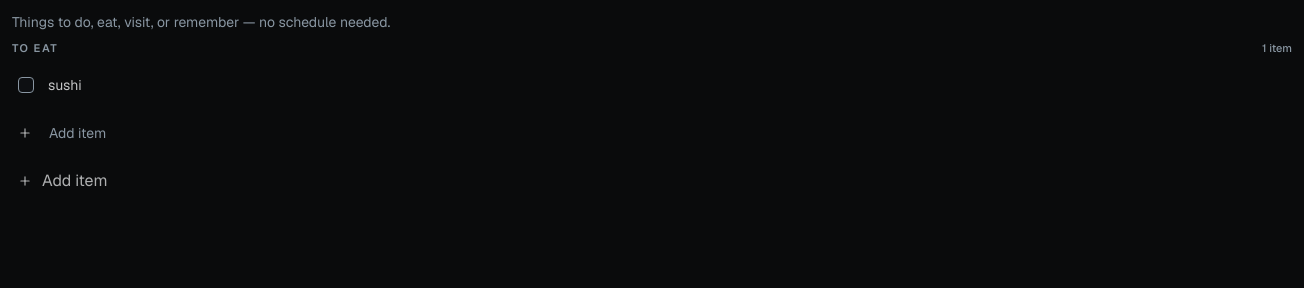
BucketListView › reuses an existing category's casing when the general composer's category is a case-insensitive match
Check: the heading "To Eat" is shown, box [12,40,58,56]
Click the button "Add item" at (63, 180), box [12,160,113,200]
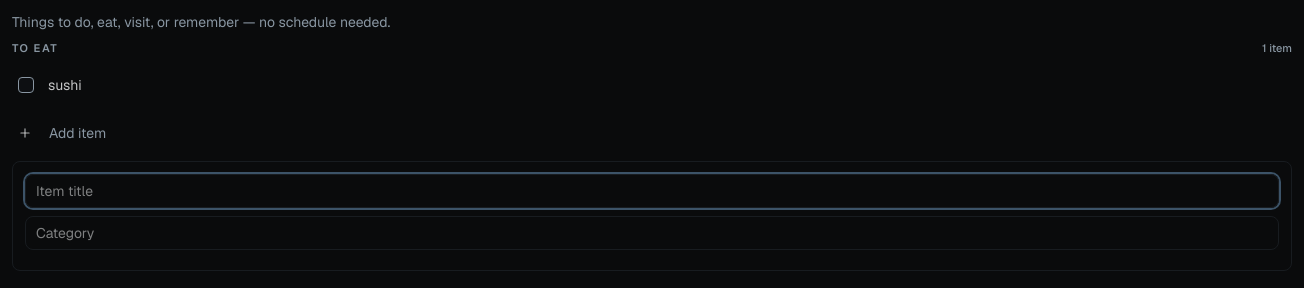
Type "ramen" into the field labelled "Item title" at (652, 190), box [25,174,1279,208]
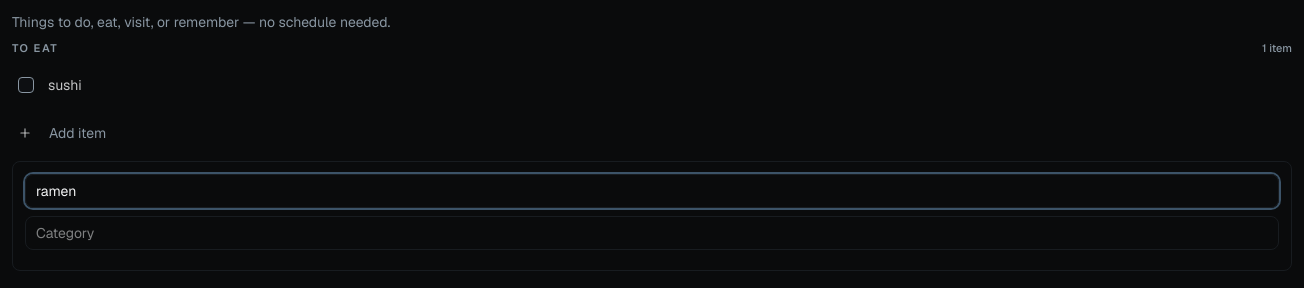
Type "to eat" into the field labelled "Category" at (652, 232), box [25,216,1279,250]
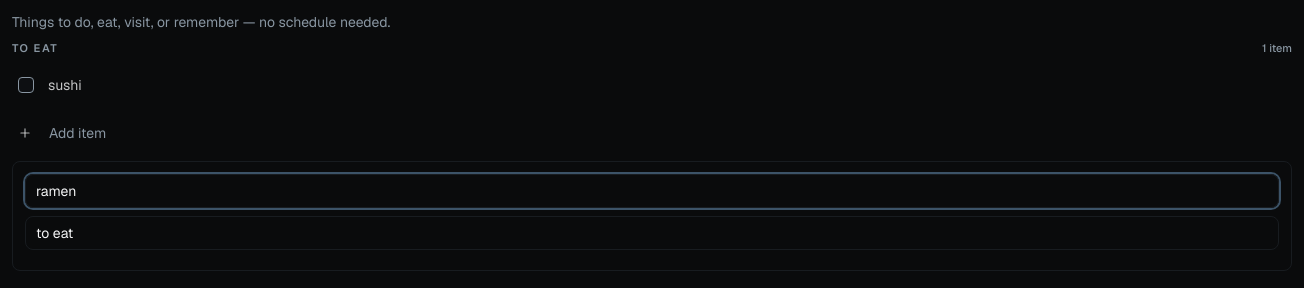
Submit the 2nd form named "Item title", box [12,160,1292,270]
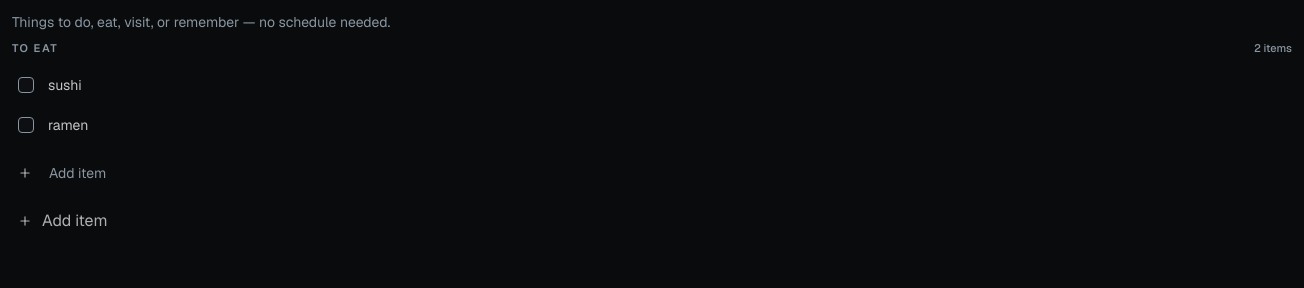
Check: the number of headings "To Eat" is 1, box [12,40,58,56]
Check: the button "ramen" is shown, box [44,110,1252,138]
